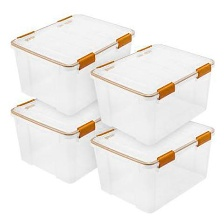plastic_box: (3, 7, 140, 121), (84, 36, 218, 150), (85, 112, 218, 217), (5, 92, 121, 188)
